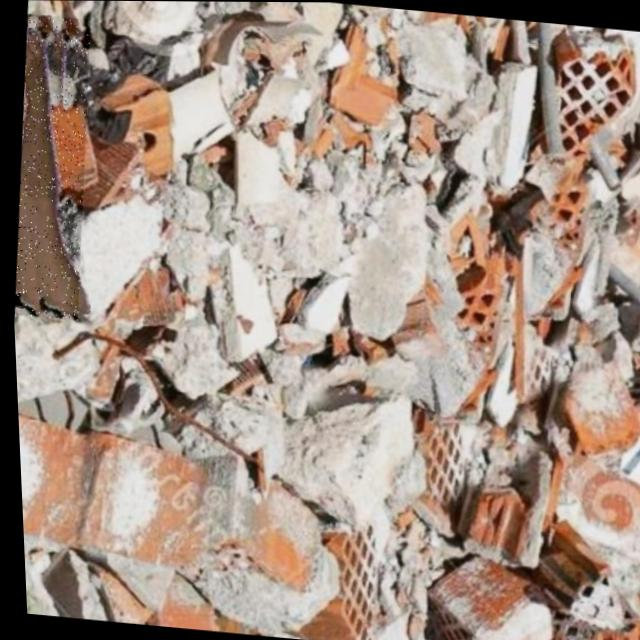Person in Rubble: (0, 13, 99, 320)
